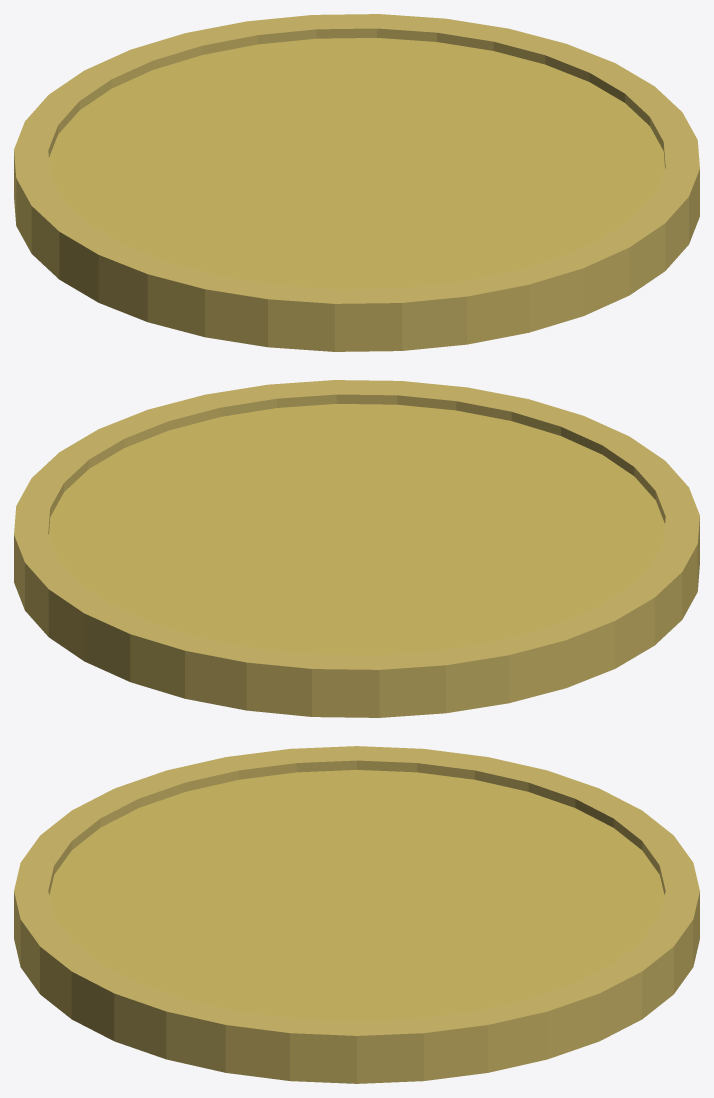
Rendered from coin.fbx.
3 views of the same model, one above another, from view 1: azimuth 30°, elevation 25°; view 2: azimuth 150°, elevation 25°; view 3: azimuth 270°, elevation 25° (orthographic).
Visible parts, largest first — view 1: Circle; view 2: Circle; view 3: Circle.
Part boxes in pixels (box(x1,y1,x2,y2)): Circle: box(14, 14, 699, 351); Circle: box(14, 380, 699, 717); Circle: box(14, 746, 699, 1083).
Size of the model in its own units: 200 by 15.42 by 200.
